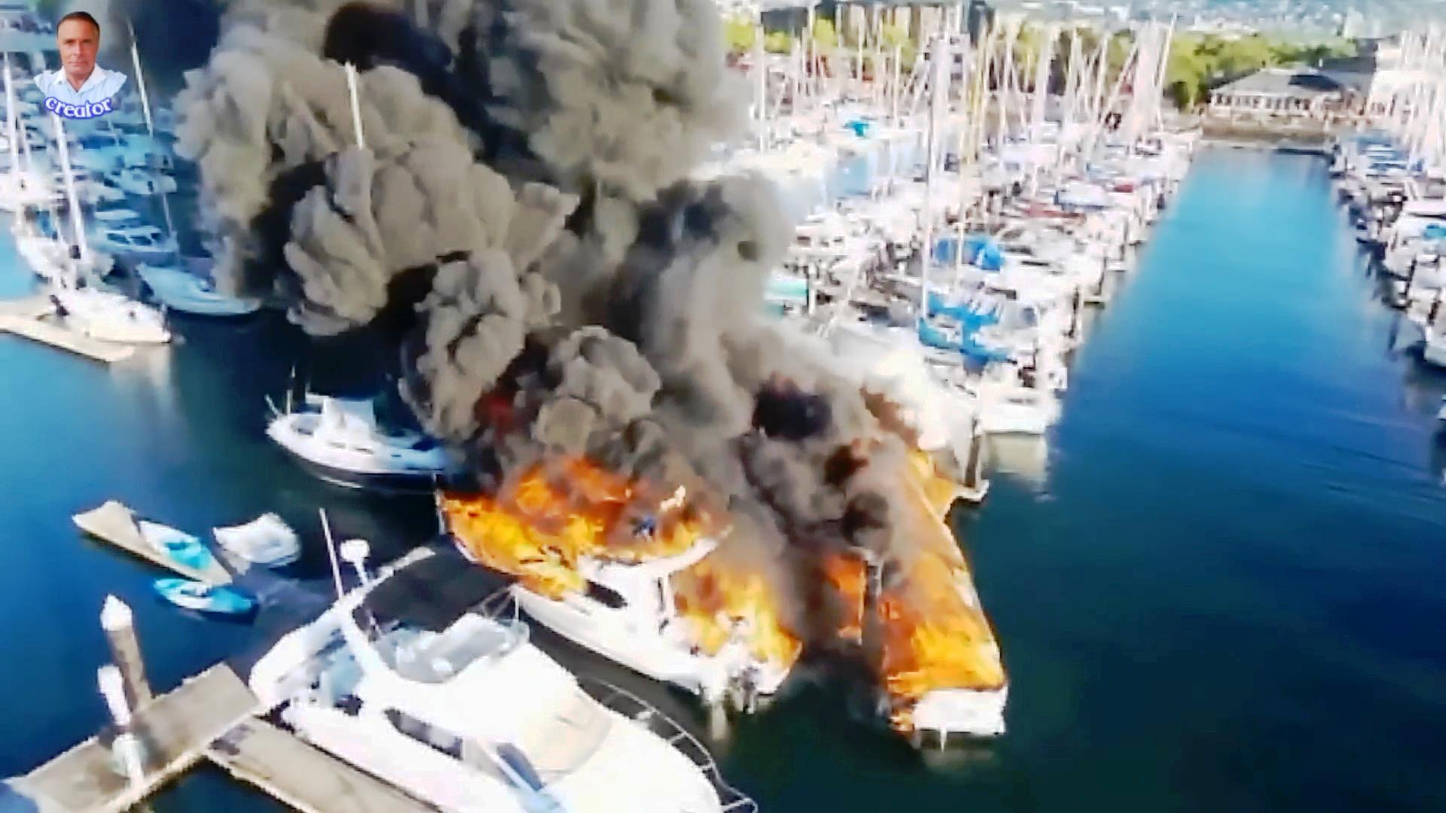fire: (448, 445, 659, 566), (893, 475, 987, 681)
smoke: (194, 27, 463, 279), (471, 12, 715, 202), (403, 222, 607, 434), (599, 151, 789, 371), (736, 362, 882, 529)
